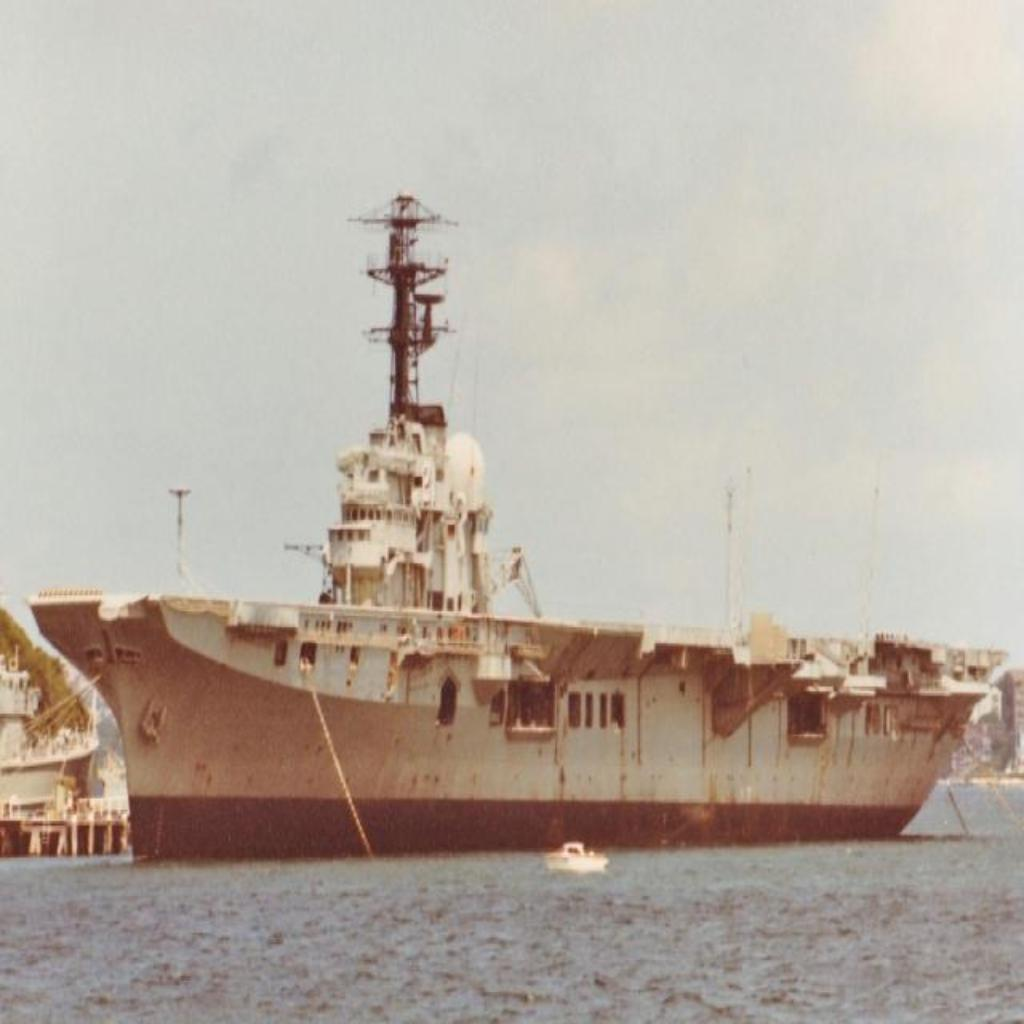Warship: (24, 188, 1006, 838)
